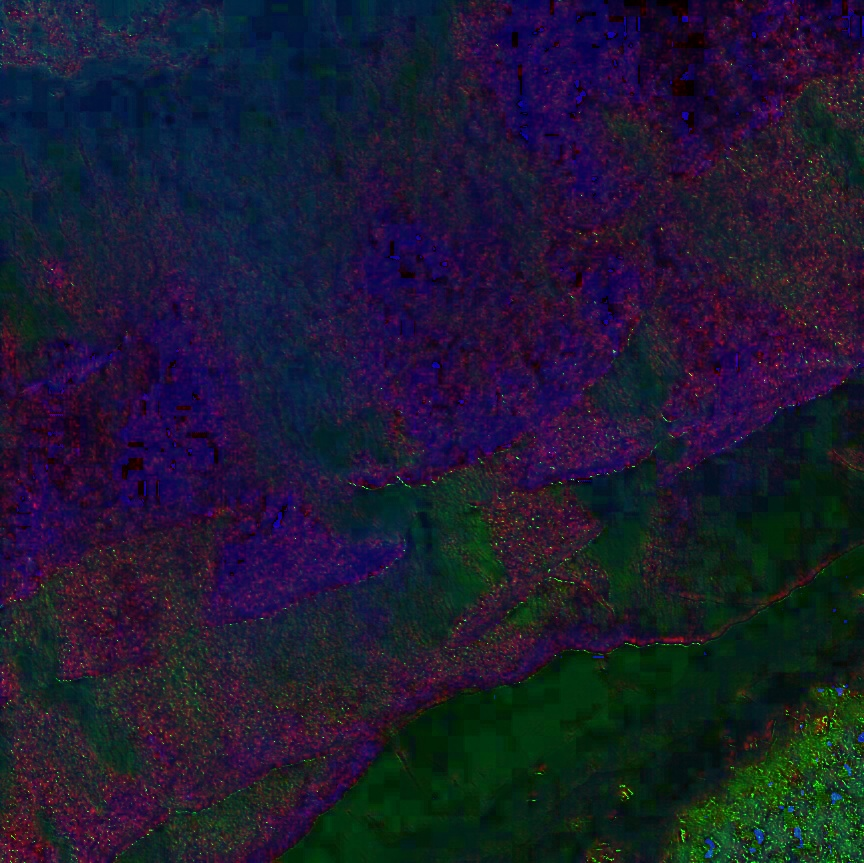rip_current: (136, 175, 519, 634)
